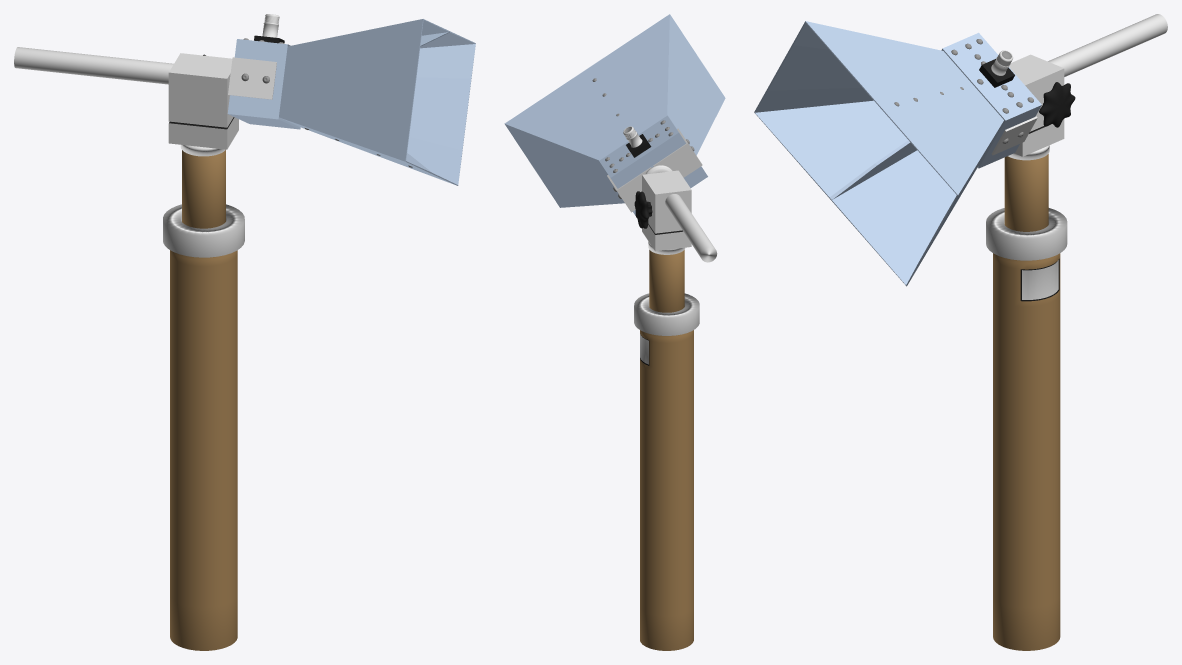
Rendered from horn.gltf.
3 renders of one model, left to right at view 1: azimuth 30°, elevation 25°; view 2: azimuth 150°, elevation 25°; view 3: azimuth 270°, elevation 25°, orthographic. The views are drawn at different scales.
Parts seen in each view (by area): view 1: Cylinder.002, Cube.005, Cube.007, Cylinder.005, Cylinder.003; view 2: Cube.005, Cylinder.002, Cube.007, Cylinder.003, Cylinder.005, Cylinder.011; view 3: Cube.005, Cylinder.002, Cylinder.003, Cube.007, Cylinder.005, Cylinder.011.
Boxes of the visible parts, box(x1,y1,x2,y2) form: Cylinder.002: box(163, 204, 244, 650); Cube.005: box(227, 19, 475, 185); Cube.007: box(168, 53, 238, 149); Cylinder.005: box(14, 47, 173, 84); Cylinder.003: box(182, 150, 225, 228); Cube.005: box(504, 14, 725, 215); Cylinder.002: box(634, 293, 699, 650); Cube.007: box(642, 170, 691, 251); Cylinder.003: box(649, 250, 684, 312); Cylinder.005: box(665, 194, 717, 262); Cylinder.011: box(634, 191, 652, 228); Cube.005: box(754, 21, 1041, 286); Cylinder.002: box(986, 208, 1067, 650); Cylinder.003: box(1004, 154, 1048, 231); Cube.007: box(1009, 54, 1064, 156); Cylinder.005: box(1048, 14, 1167, 76); Cylinder.011: box(1039, 82, 1075, 127).
Size of the model in its own units: 5.36 by 9.48 by 5.32.
